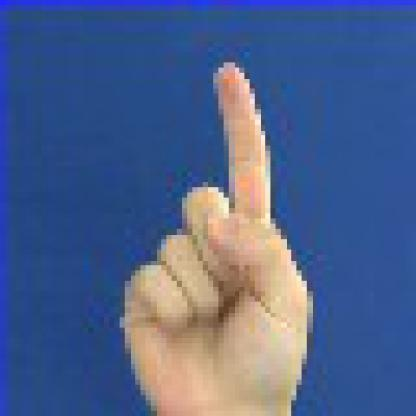one: (110, 47, 322, 411)
